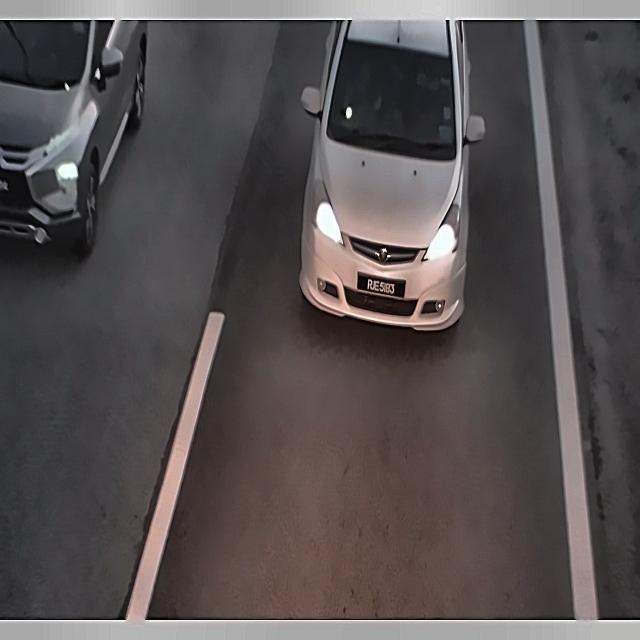car: (358, 269, 402, 305), (0, 172, 13, 195)
